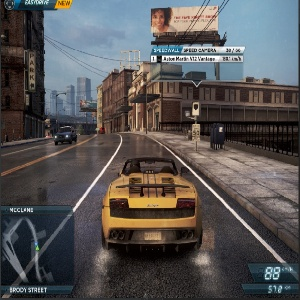ad: (152, 6, 220, 31), (77, 99, 104, 112), (29, 50, 36, 92)
building: (100, 70, 300, 129)
mailbox: (209, 120, 226, 152)
road sign: (190, 101, 203, 151)
vehicle: (52, 123, 81, 146)
